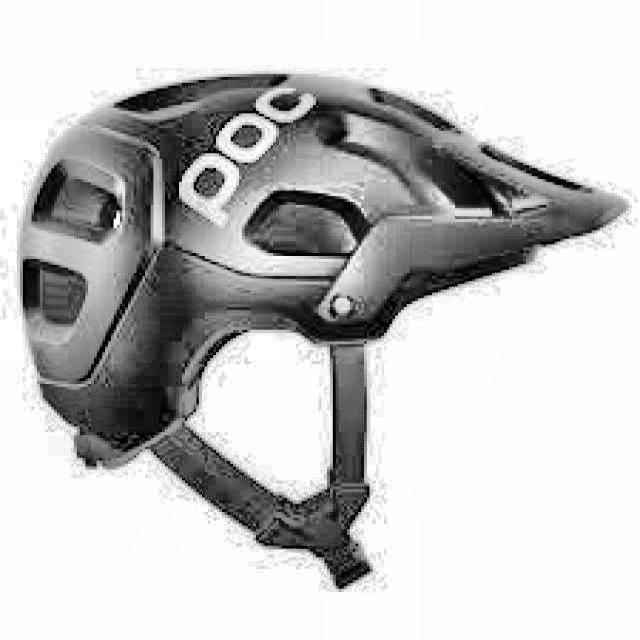Helmet: (19, 75, 626, 585)
